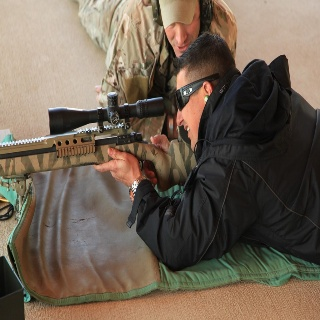rifle: (1, 90, 201, 195)
